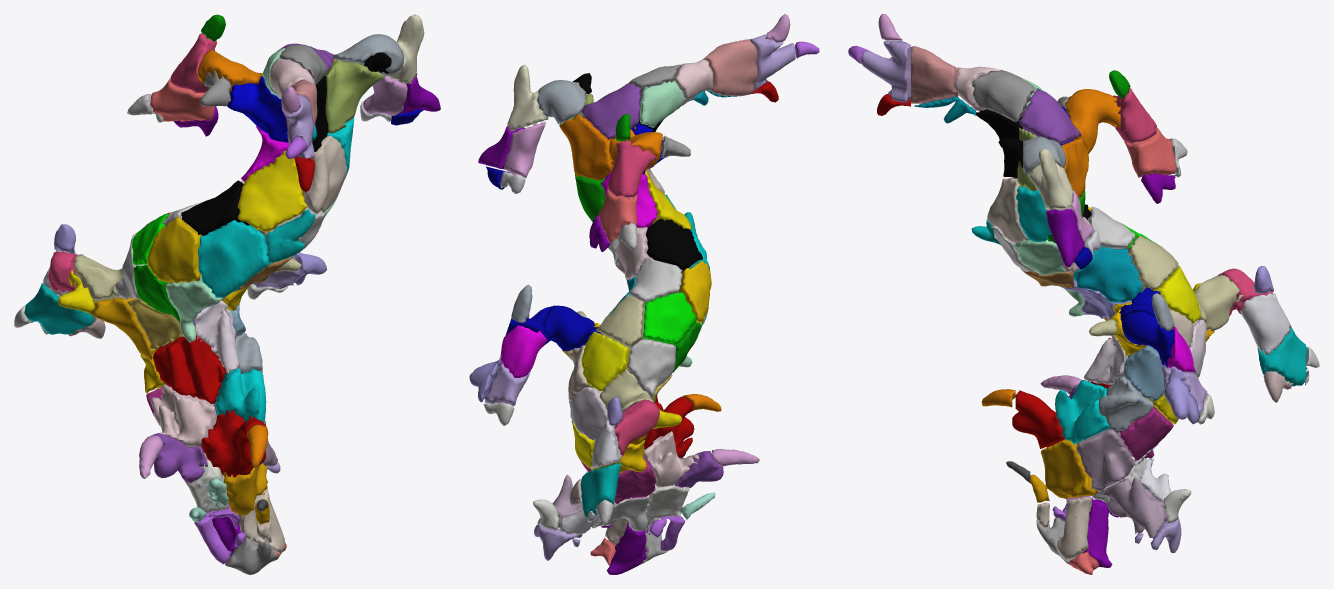
The model's file is 7_local.glb.
The picture shows the model from 3 angles, left to right: view 1: azimuth 30°, elevation 25°; view 2: azimuth 150°, elevation 25°; view 3: azimuth 270°, elevation 25°; orthographic projection. The views are drawn at different scales.
Size of the model in its own units: 0.527 by 0.9352 by 0.7669.
